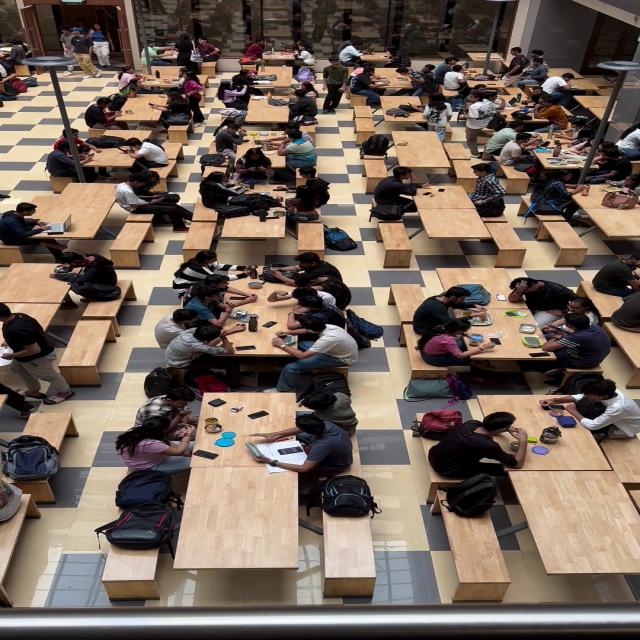Occupied: (479, 390, 618, 473), (188, 113, 300, 215), (187, 391, 305, 468), (425, 411, 529, 481), (404, 321, 530, 378), (248, 410, 355, 477), (13, 182, 132, 242), (546, 377, 640, 441), (153, 329, 240, 398), (372, 92, 466, 154), (266, 378, 360, 440), (191, 318, 329, 357), (113, 414, 198, 475), (111, 174, 193, 231), (496, 75, 601, 119), (146, 25, 228, 80), (272, 323, 352, 377), (76, 145, 174, 189), (353, 46, 462, 84), (464, 110, 556, 155), (262, 250, 348, 294), (176, 286, 259, 331), (47, 253, 121, 301), (170, 247, 256, 288), (196, 171, 272, 217), (269, 182, 332, 235), (524, 170, 588, 222), (390, 130, 455, 180), (410, 290, 480, 336), (508, 276, 586, 317), (132, 386, 200, 433), (370, 166, 435, 214), (44, 138, 106, 182), (481, 86, 541, 129), (462, 163, 508, 218), (441, 62, 515, 96), (266, 278, 341, 311), (526, 143, 591, 180), (0, 203, 53, 247), (590, 254, 640, 299), (580, 146, 634, 187), (235, 97, 298, 130), (2, 325, 58, 361), (462, 89, 504, 134), (215, 79, 258, 122), (348, 67, 388, 113), (554, 116, 603, 153), (495, 132, 542, 170), (598, 173, 640, 212), (152, 92, 196, 129), (232, 147, 275, 183), (82, 98, 127, 132), (532, 98, 573, 133), (212, 119, 250, 154), (510, 58, 550, 90), (405, 64, 440, 99), (536, 72, 573, 105), (446, 283, 493, 308), (285, 89, 319, 123), (498, 47, 529, 84), (612, 122, 640, 161), (138, 40, 172, 72), (134, 77, 187, 96), (230, 68, 268, 94), (303, 179, 333, 209), (192, 37, 223, 65), (116, 65, 146, 92), (336, 39, 364, 67), (441, 66, 470, 92), (239, 39, 269, 64), (290, 40, 318, 66), (181, 78, 206, 100), (106, 92, 129, 113), (292, 66, 317, 84)
Unoccupied: (170, 465, 302, 574), (516, 470, 640, 578), (434, 490, 512, 602), (320, 500, 378, 599), (242, 132, 340, 180), (98, 539, 164, 601), (0, 496, 34, 606), (215, 205, 289, 249), (420, 208, 504, 244), (0, 267, 78, 303), (54, 326, 114, 372), (536, 221, 590, 265), (481, 220, 532, 266), (106, 220, 156, 264), (602, 431, 640, 487), (19, 411, 77, 447), (376, 222, 416, 268), (594, 204, 640, 240), (78, 297, 134, 326), (180, 221, 222, 256), (359, 74, 418, 97), (458, 73, 512, 98), (469, 50, 507, 69)
